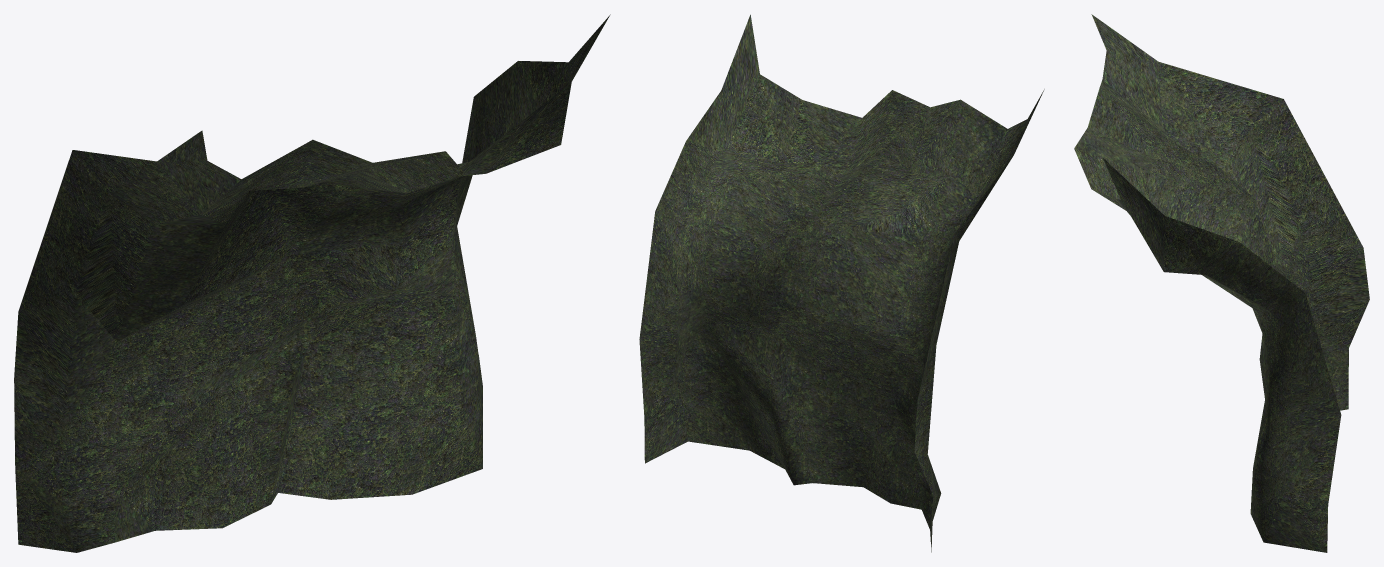
Rendered from cliff_wall_01_lod_01.fbx.
3 renders of one model, left to right at view 1: azimuth 30°, elevation 25°; view 2: azimuth 150°, elevation 25°; view 3: azimuth 270°, elevation 25°, orthographic. The views are drawn at different scales.
Visible parts, largest first — view 1: cliff_tunnel_01; view 2: cliff_tunnel_01; view 3: cliff_tunnel_01.
Boxes of the visible parts, x1,y1,x2,y2 form: cliff_tunnel_01: [14, 14, 610, 552]; cliff_tunnel_01: [639, 14, 1044, 552]; cliff_tunnel_01: [1074, 14, 1369, 552].
Size of the model in its own units: 79.78 by 96.76 by 63.94.
